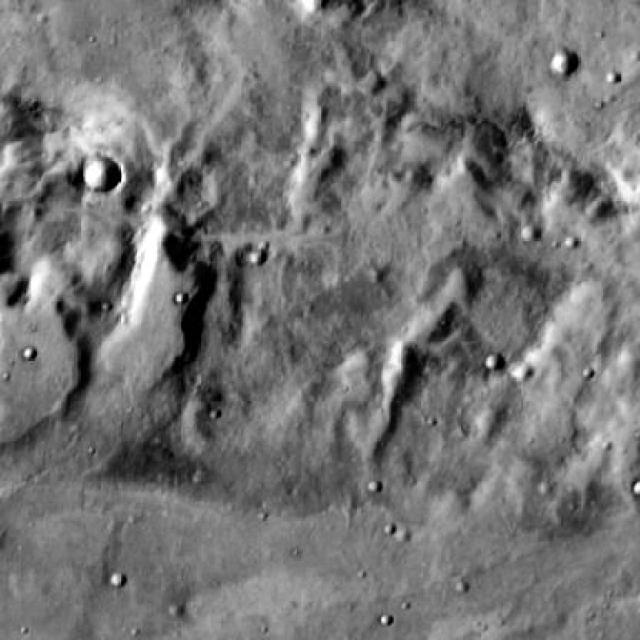crater: (84, 156, 122, 189), (544, 51, 576, 77), (518, 222, 540, 240), (481, 353, 499, 370), (511, 359, 529, 376)
